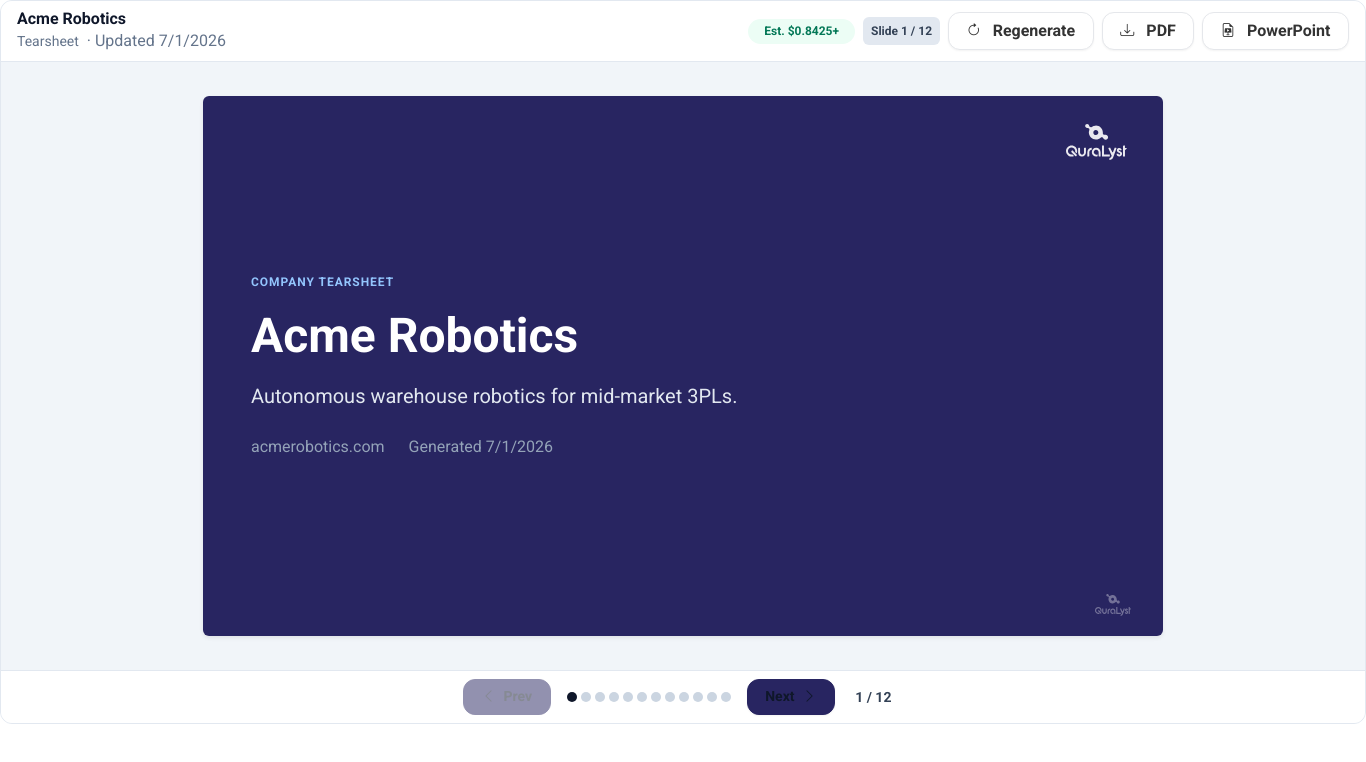
Test: PETearsheetPage › keeps progress UI if a stale complete arrives without content during regenerate
What coordinates should you click on to do the following:
click the button with test id "tearsheet-regenerate"
I would click on:
 (1021, 31)
Its box is 948,12 -> 1094,50.
(page scrolled)
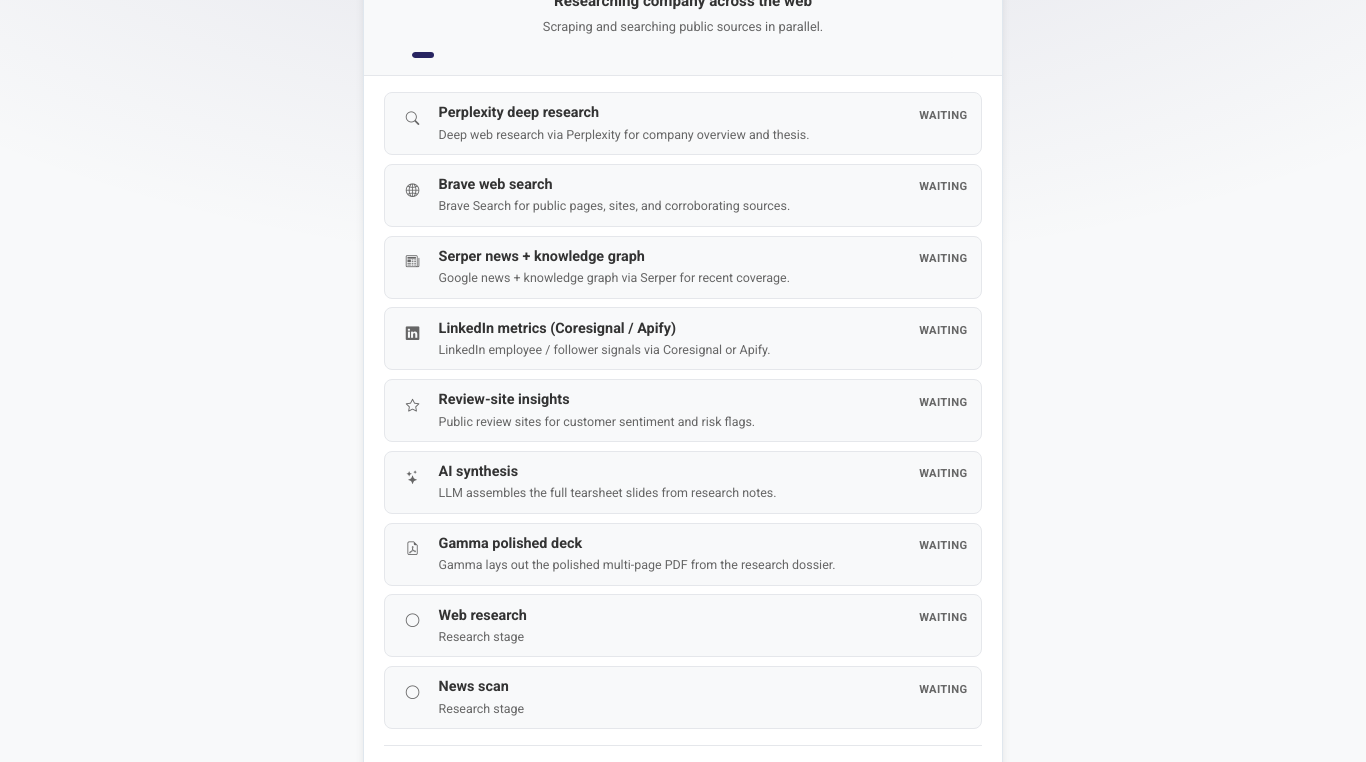
Check: the element with test id "tearsheet-deck" is gone
